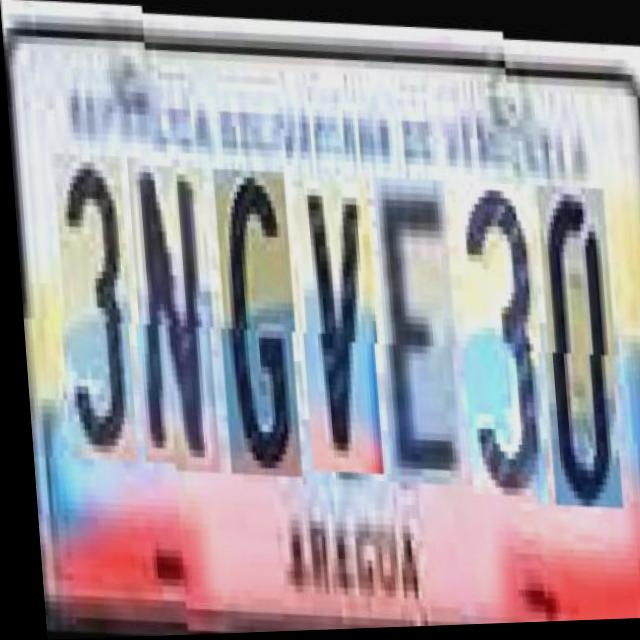0: (532, 170, 618, 497)
3: (451, 175, 544, 494), (50, 158, 135, 470)
e: (369, 170, 458, 483)
g: (210, 164, 299, 476)
n: (124, 160, 217, 473)
v: (291, 168, 380, 473)
